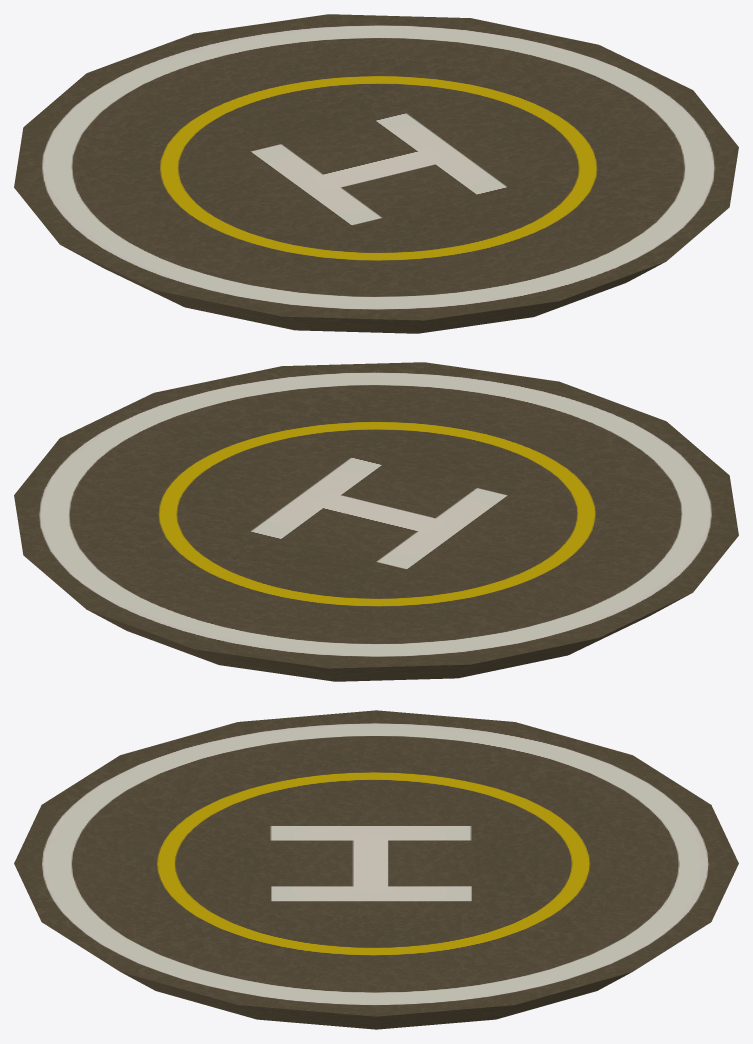
Rendered from BasicLandingPad.glb.
3 renders of one model, top to bottom at view 1: azimuth 30°, elevation 25°; view 2: azimuth 150°, elevation 25°; view 3: azimuth 270°, elevation 25°, orthographic.
Visible parts, largest first — view 1: BasicLandingPad; view 2: BasicLandingPad; view 3: BasicLandingPad.
Part boxes in pixels (x1,y1,x2,y2): BasicLandingPad: (14,14,738,333); BasicLandingPad: (14,362,738,681); BasicLandingPad: (14,710,738,1029).
Size of the model in its own units: 2 by 0.1038 by 2.
Materials: 1 (1 with a texture image).
